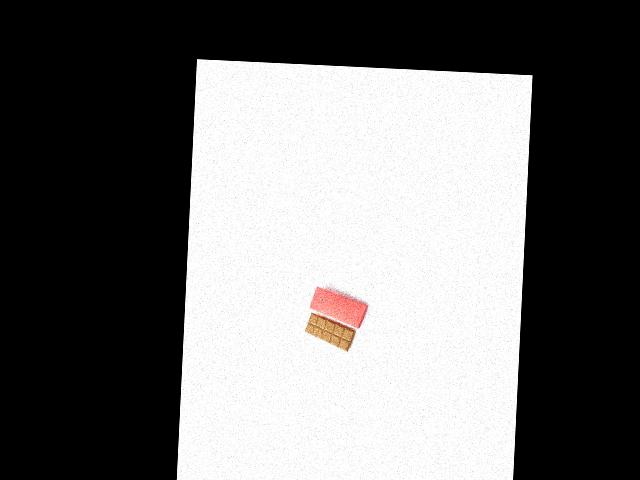chocolate: (303, 309, 358, 352)
